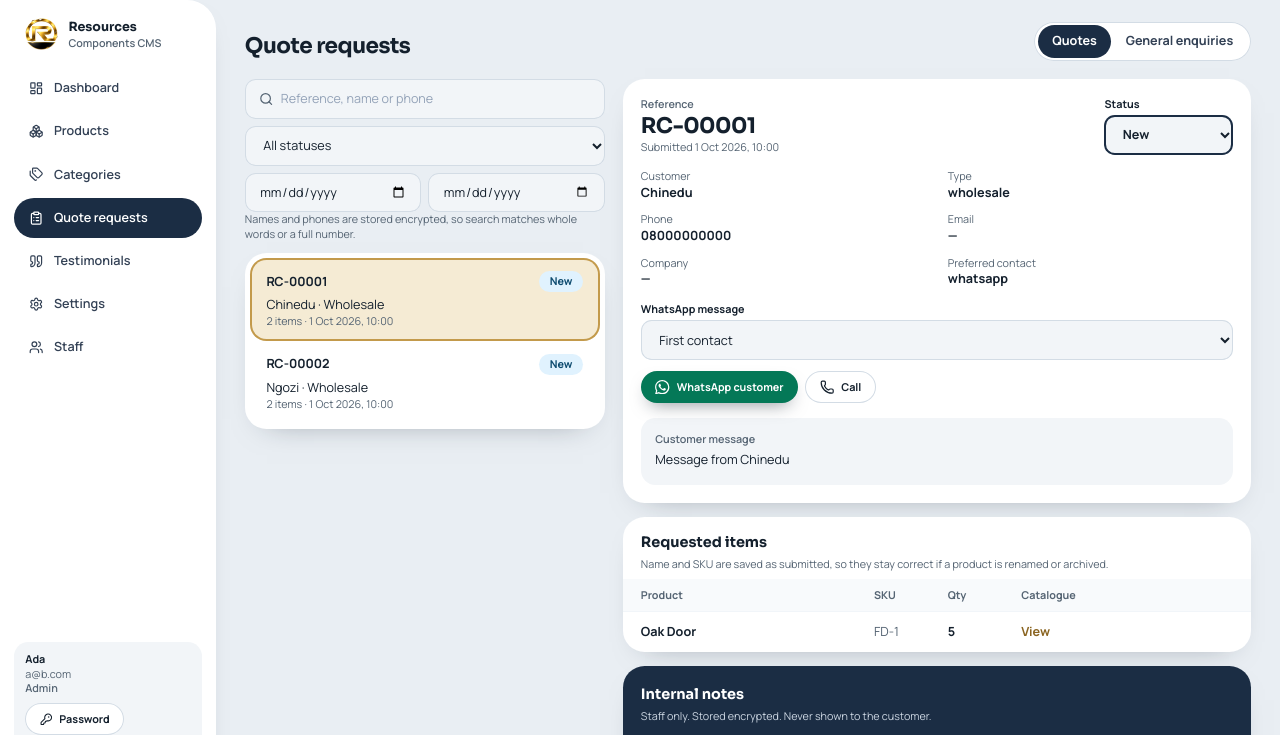
clicking another request shows it on the right without leaving the page
Expected: the heading "RC-00001" is shown, [641,112,756,139]
Click the button with aria-label "Open RC-00002".
click(298, 364)  # box [252,343,598,422]
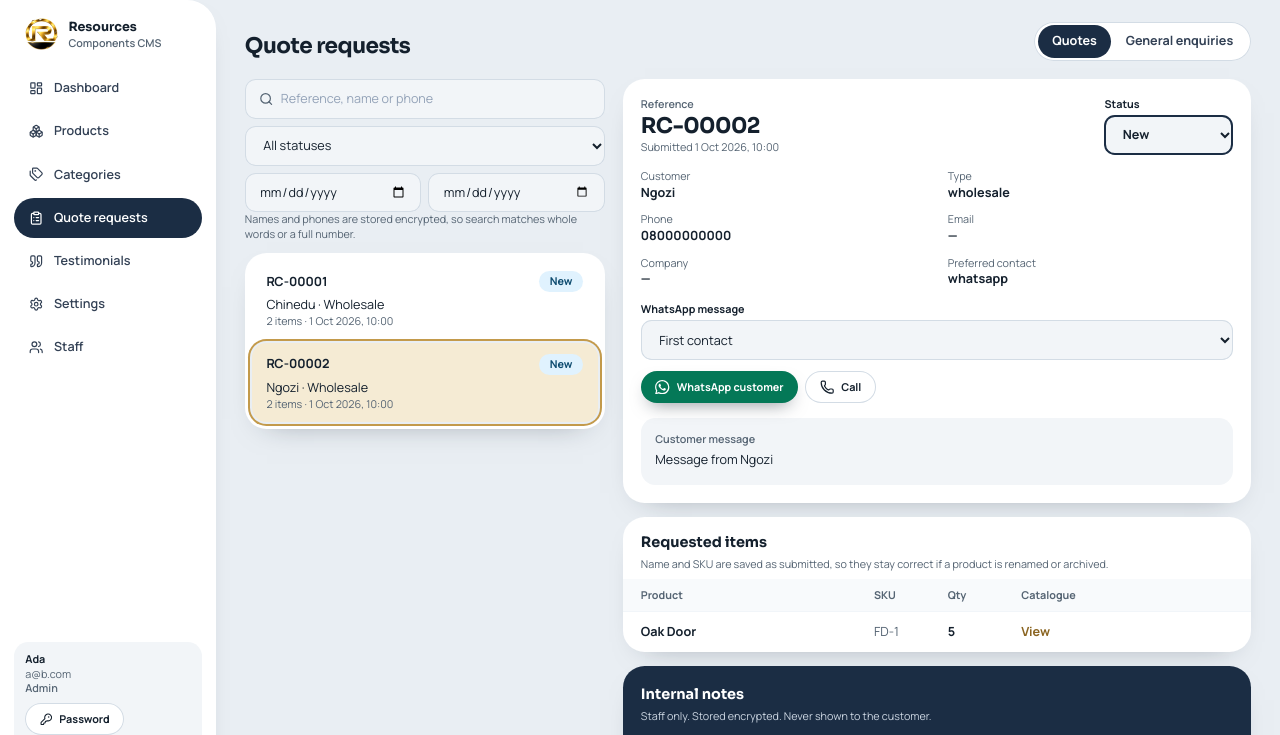
Now the heading "RC-00002" is shown, box [641,112,779,140]
Now the text "Message from Ngozi" is shown, box [655,451,773,468]
